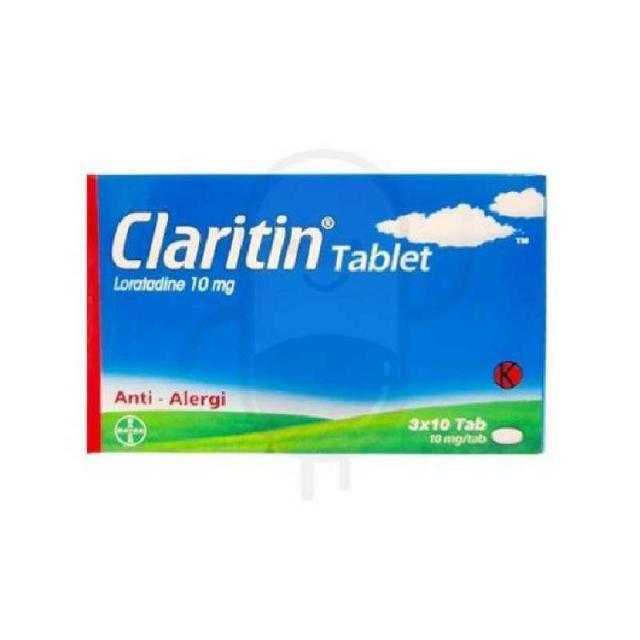drug-name: (107, 210, 326, 276)
